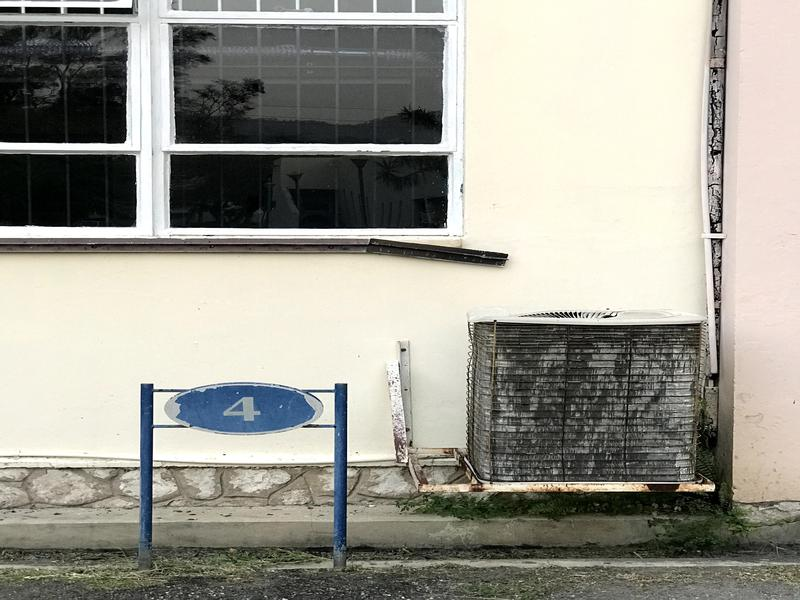18.0053530_-76.7490375_signatentrancetoscitech: (124, 368, 356, 581)
